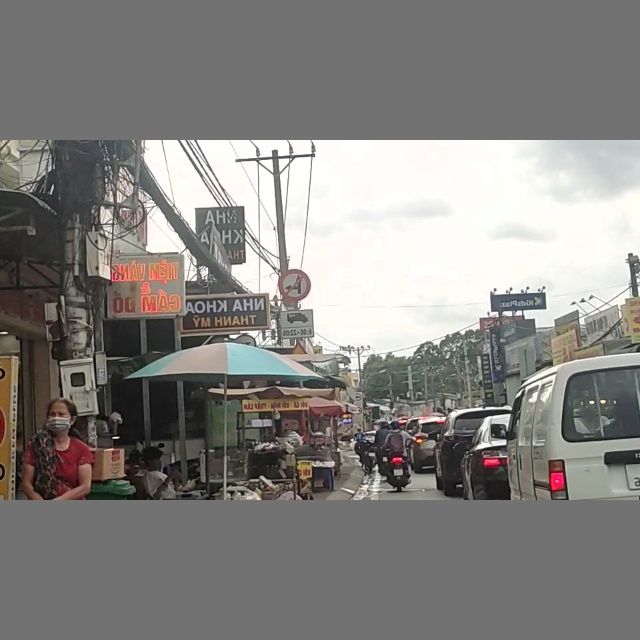P.139: (277, 268, 312, 301)
S.505a*Xe tai: (279, 309, 315, 338)
